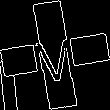M_N: (28, 26, 82, 84)
